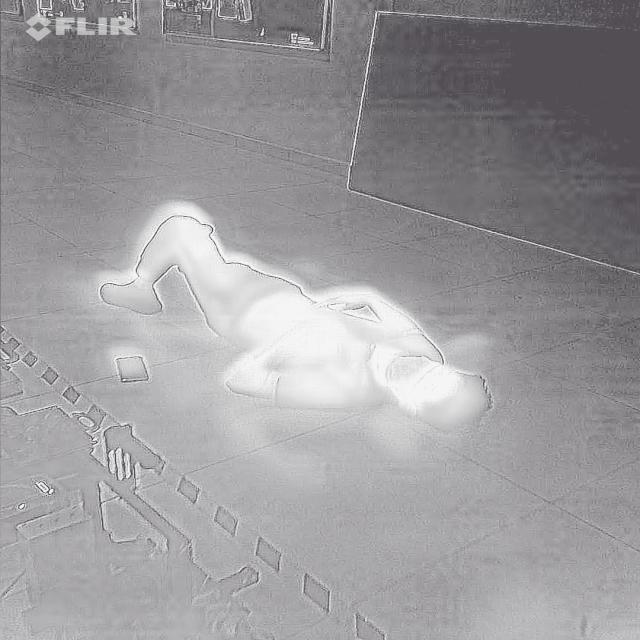Victim: (93, 193, 504, 440)
